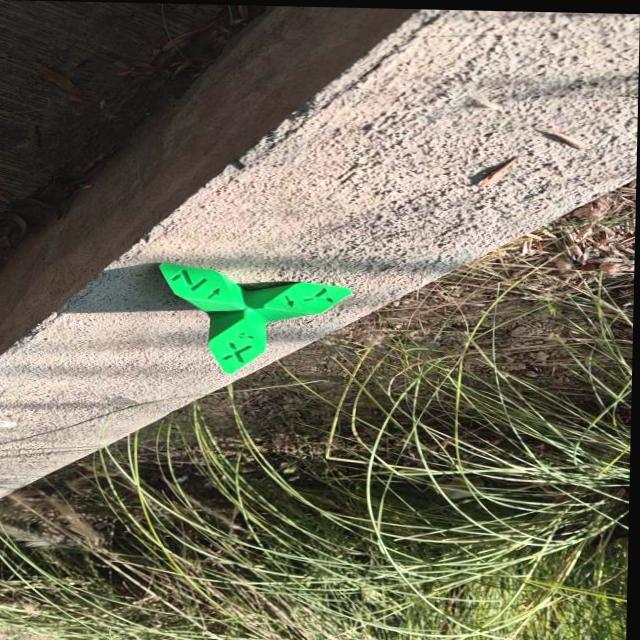eje: (154, 261, 356, 379)
